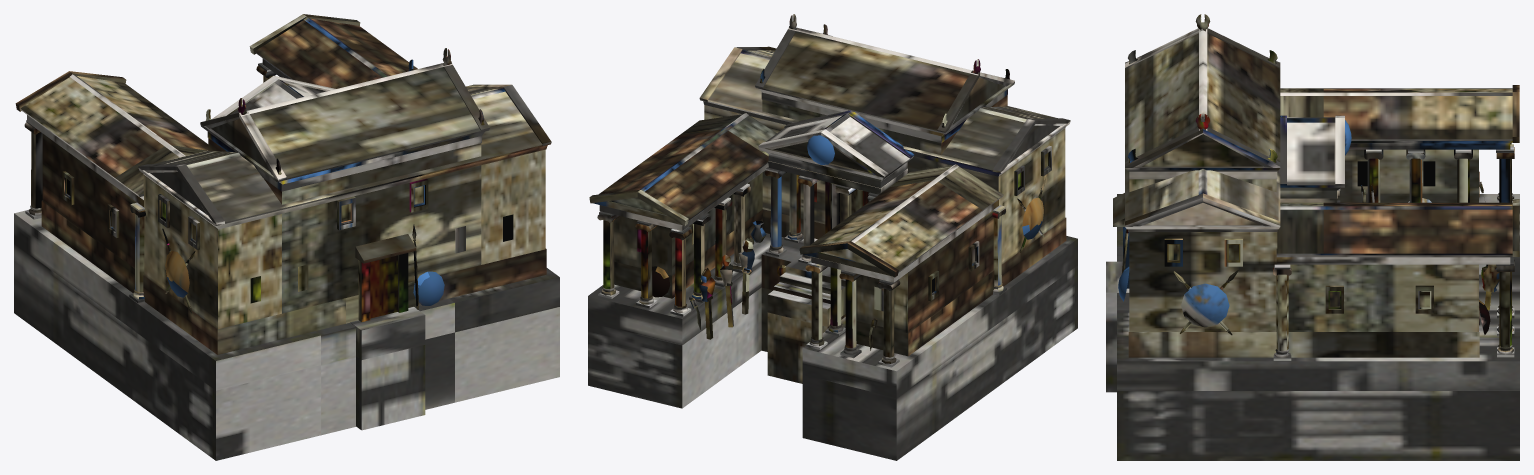
The model's file is barracks.glb.
The picture shows the model from 3 angles, left to right: view 1: azimuth 30°, elevation 25°; view 2: azimuth 150°, elevation 25°; view 3: azimuth 270°, elevation 25°; orthographic projection. The views are drawn at different scales.
Parts seen in each view (by area): view 1: barracks; view 2: barracks; view 3: barracks.
Boxes of the visible parts, left/top/right/bottom form: barracks: left=14, top=14, right=559, bottom=460; barracks: left=588, top=14, right=1077, bottom=460; barracks: left=1106, top=14, right=1519, bottom=460.
Bounding box in the file's own units: 3.87 × 3.34 × 4.
6 materials, 6 textured.
